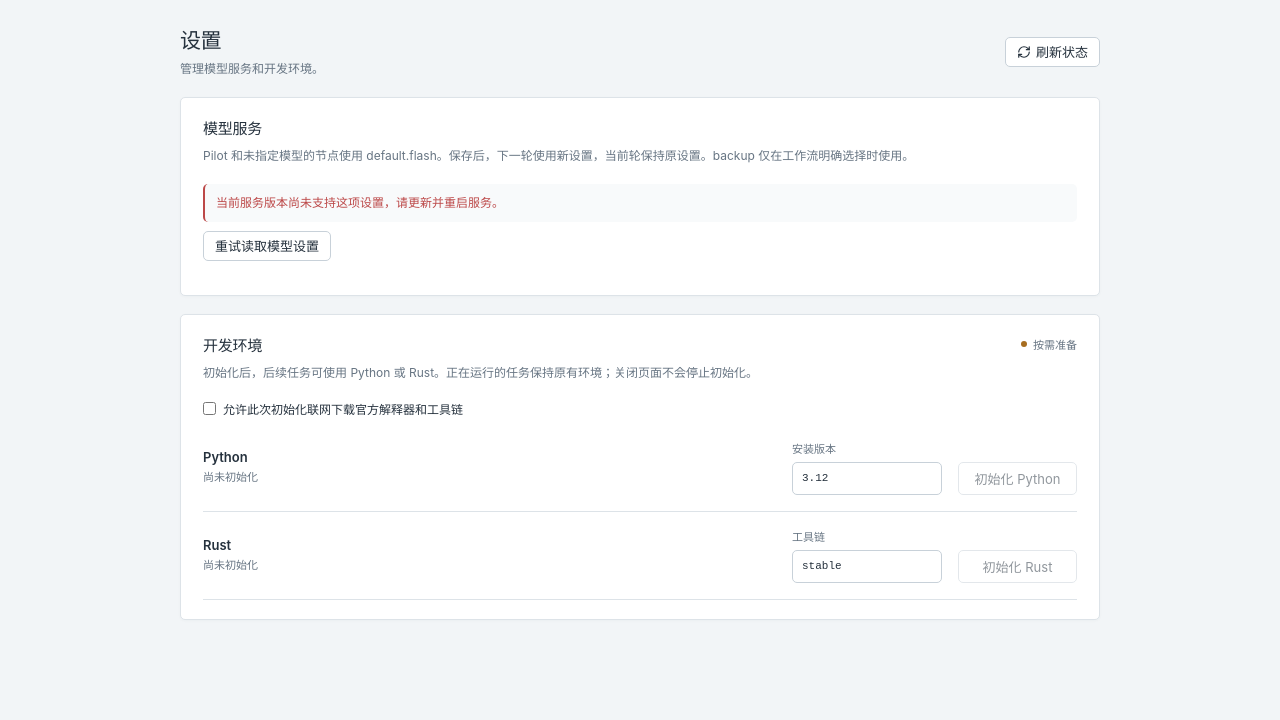
Test case: Host settings › initializes the Host runtime only after explicit network authorization and shows durable progress
Check: the button "初始化 Python" is disabled, box x1=958 y1=462 x2=1077 y2=495
Click the checkbox labelled "允许此次初始化联网下载官方解释器和工具链" at point(210, 408), box x1=203 y1=402 x2=216 y2=415
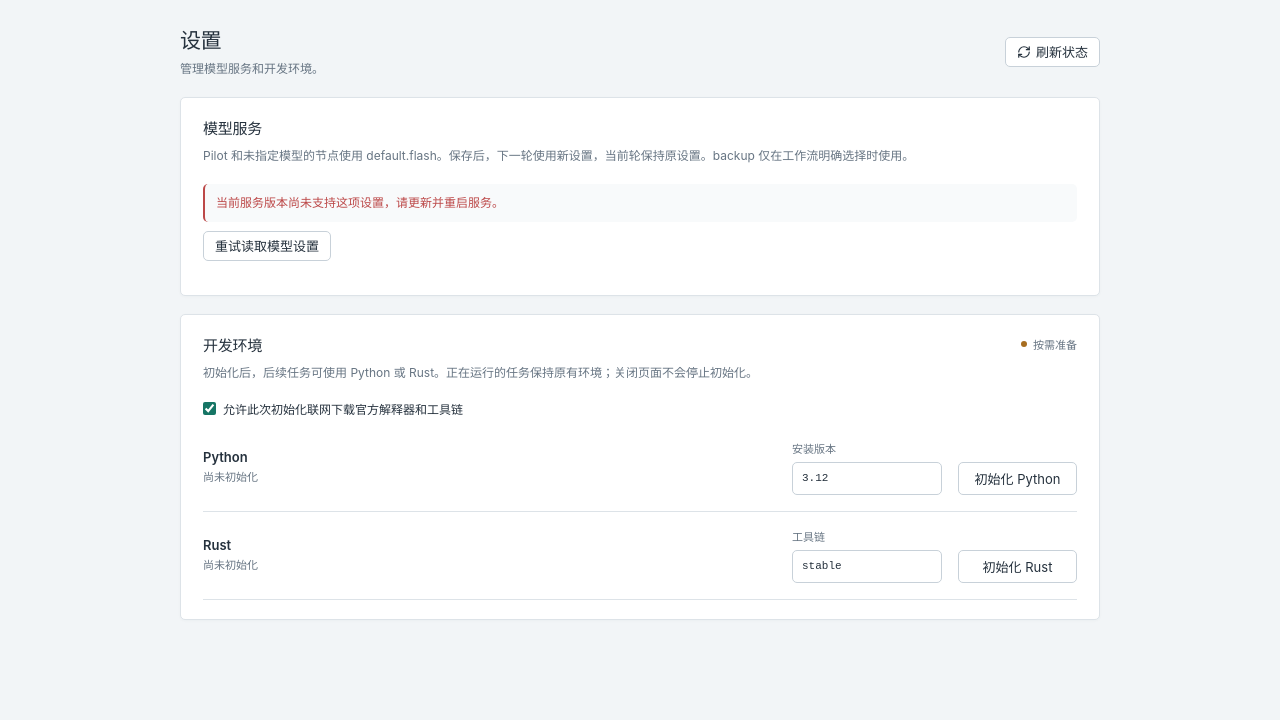
Check: the button "初始化 Python" is enabled
Click the button "初始化 Python" at point(1018, 478), box x1=958 y1=462 x2=1077 y2=495
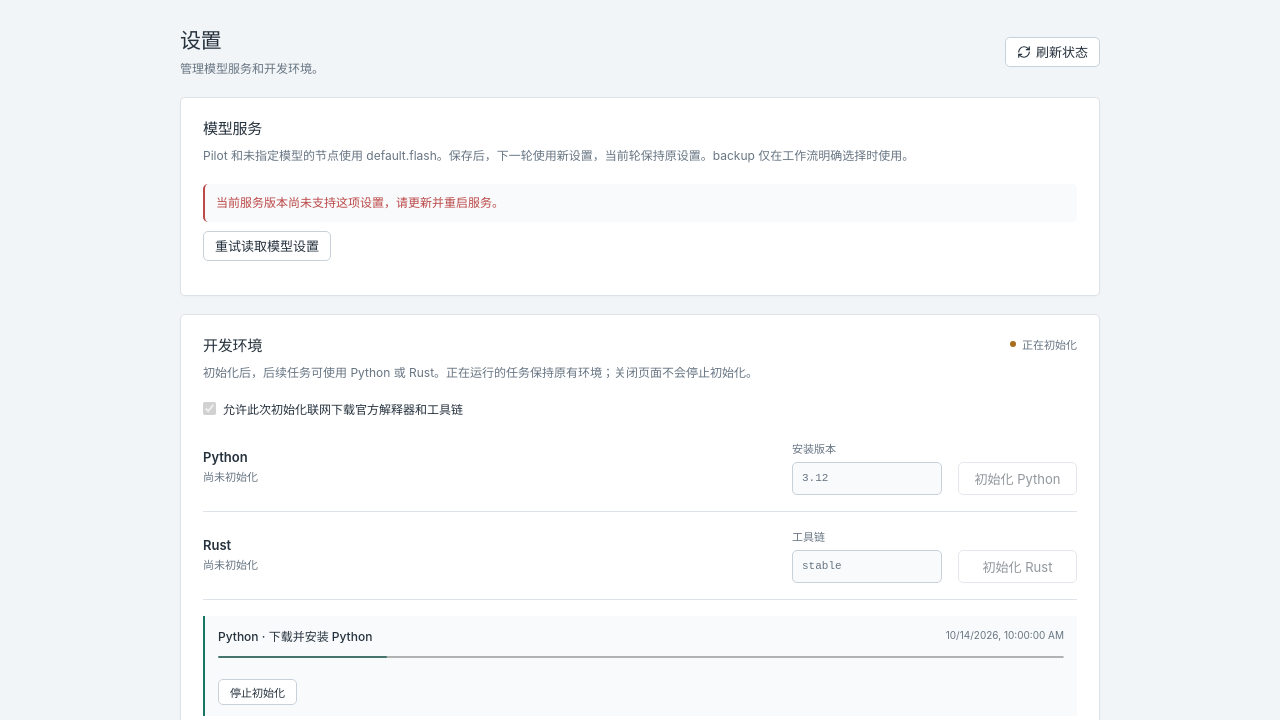
Check: the text "下载并安装 Python" is shown, box x1=269 y1=629 x2=372 y2=644
Check: the progress indicator named "环境初始化进度" is shown, box x1=218 y1=655 x2=1064 y2=659
Check: the button "初始化 Python" is disabled, box x1=958 y1=462 x2=1077 y2=495
Click the button "停止初始化" at point(258, 692), box x1=218 y1=679 x2=297 y2=705
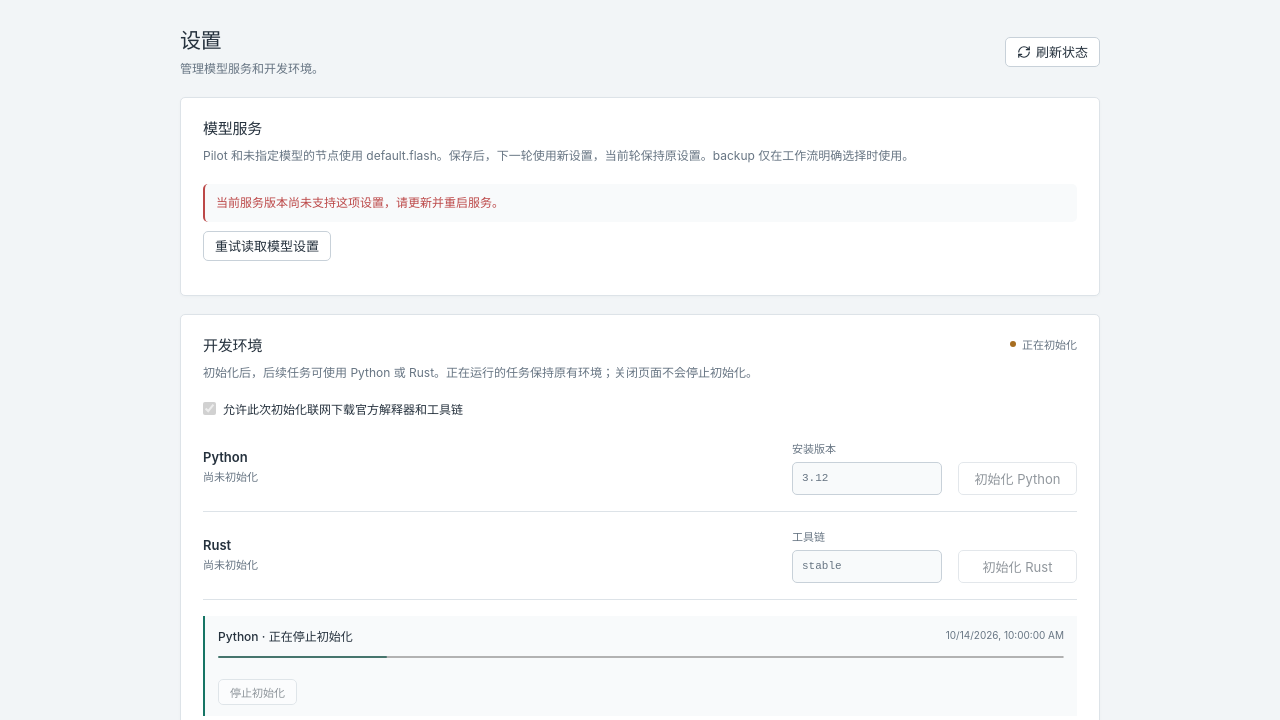
Check: the text "正在停止初始化" is shown, box x1=269 y1=629 x2=353 y2=644
